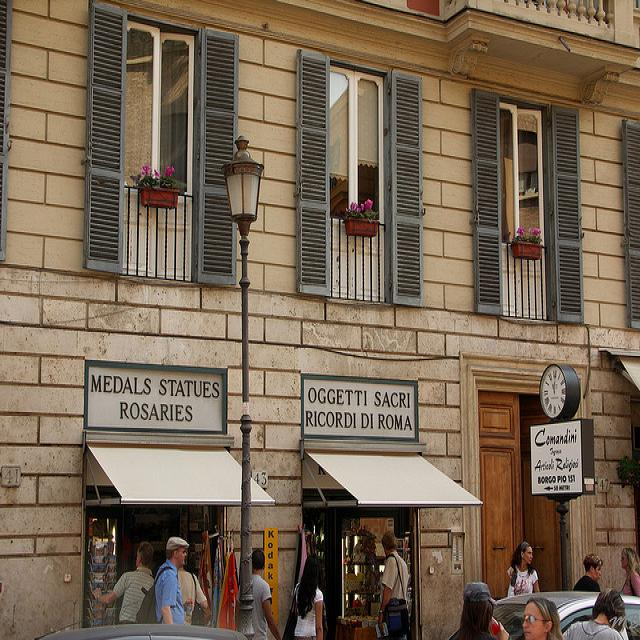Vehicle: (447, 590, 640, 640), (36, 621, 250, 639)
